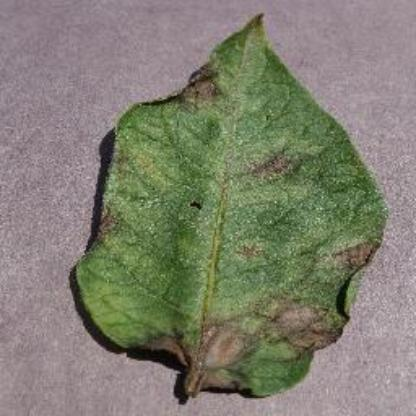Late-Blight: (67, 12, 390, 404)
